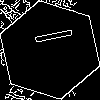I: (24, 25, 73, 49)
